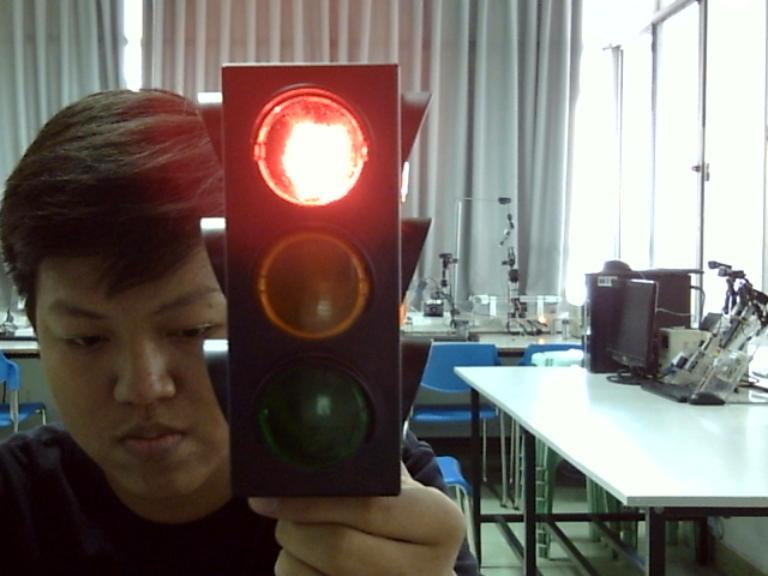red: (231, 78, 386, 222)
